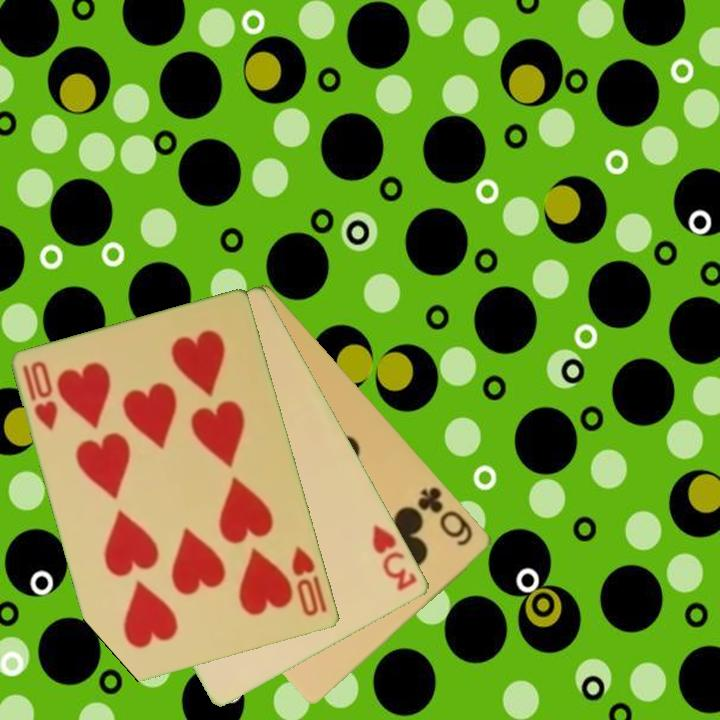10h: (288, 542, 331, 620), (19, 358, 61, 434)
3h: (369, 521, 421, 594)
6c: (414, 483, 477, 549)
